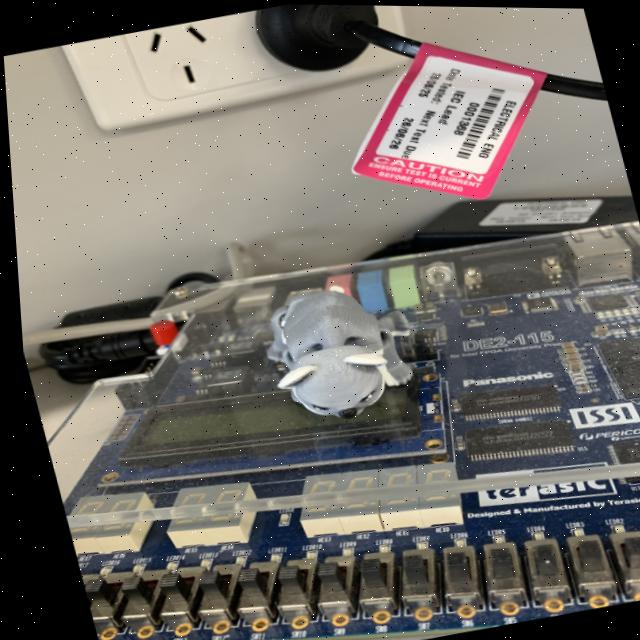koala: (227, 261, 435, 440)
